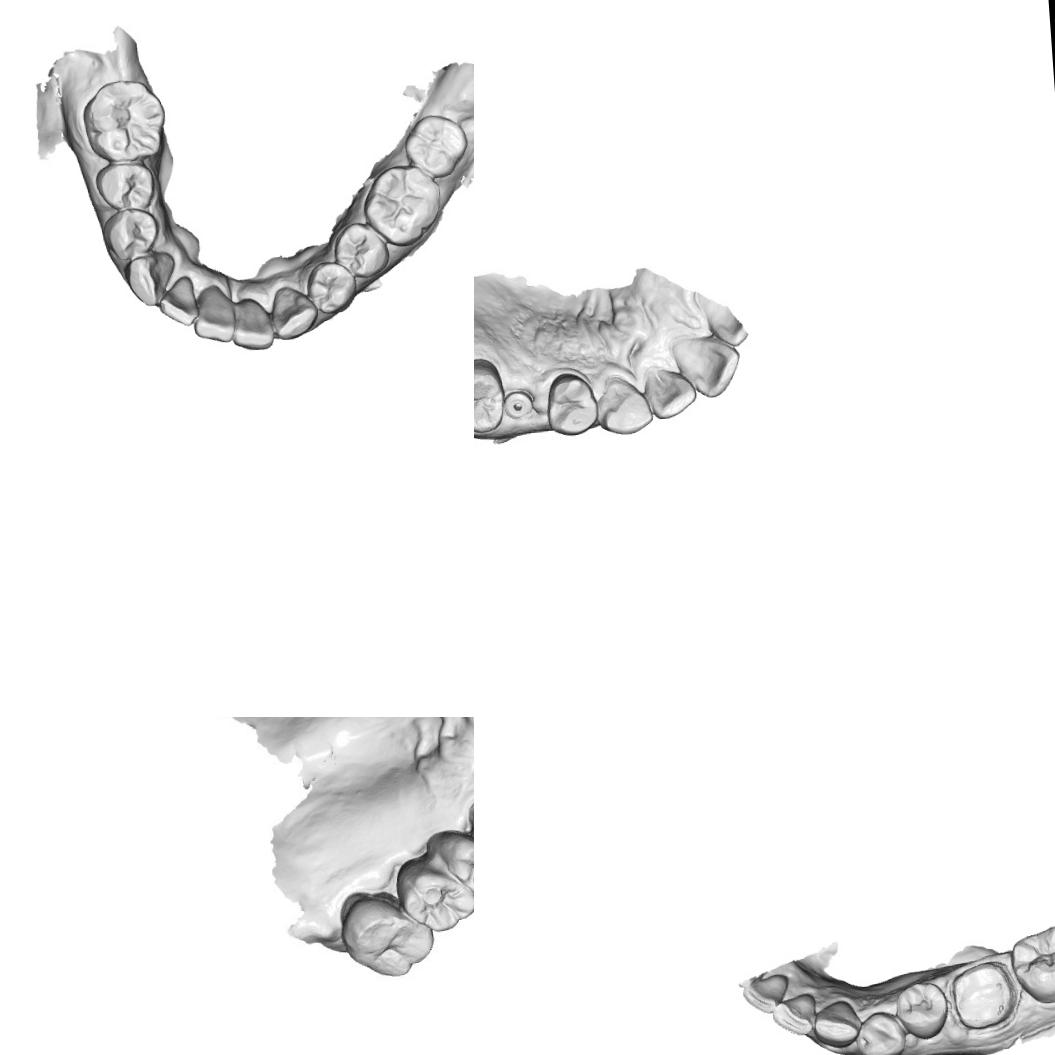canine: (593, 372, 654, 437), (121, 249, 179, 310), (267, 282, 318, 341), (810, 996, 864, 1050)
crown: (948, 957, 1018, 1032)
implant: (501, 388, 535, 420)
incisor: (668, 332, 742, 401), (643, 364, 698, 420), (190, 280, 236, 344), (228, 292, 274, 353), (694, 302, 750, 348), (154, 274, 200, 328), (768, 990, 819, 1038), (739, 971, 792, 1016)
molar: (336, 888, 437, 981), (78, 74, 170, 166), (358, 160, 446, 250), (394, 860, 474, 938), (401, 111, 471, 180), (1007, 920, 1055, 1006), (474, 355, 507, 436)
premolar: (542, 368, 599, 438), (330, 218, 392, 280), (892, 978, 951, 1042), (92, 160, 158, 213), (99, 206, 161, 262), (303, 258, 358, 315), (439, 826, 474, 899), (853, 1008, 907, 1055)
